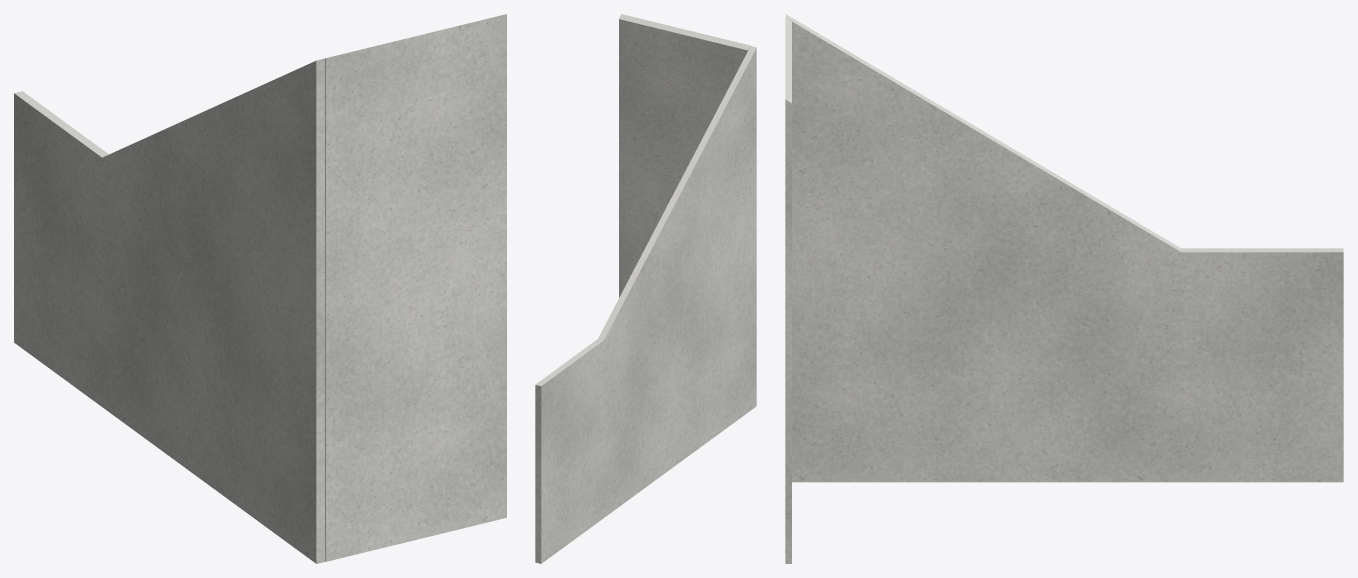
Rendered from stair_closure.glb.
The picture shows the model from 3 angles, left to right: view 1: azimuth 30°, elevation 25°; view 2: azimuth 150°, elevation 25°; view 3: azimuth 270°, elevation 25°; orthographic projection. The views are drawn at different scales.
Visible parts, largest first — view 1: stair_closure_plaster; view 2: stair_closure_plaster; view 3: stair_closure_plaster.
Part boxes in pixels (x1,y1,x2,y2): stair_closure_plaster: (14, 14, 506, 563); stair_closure_plaster: (535, 14, 756, 563); stair_closure_plaster: (785, 14, 1343, 563).
Size of the model in its own units: 1.2 by 3.03 by 3.3.
Materials: 1 (1 with a texture image).
